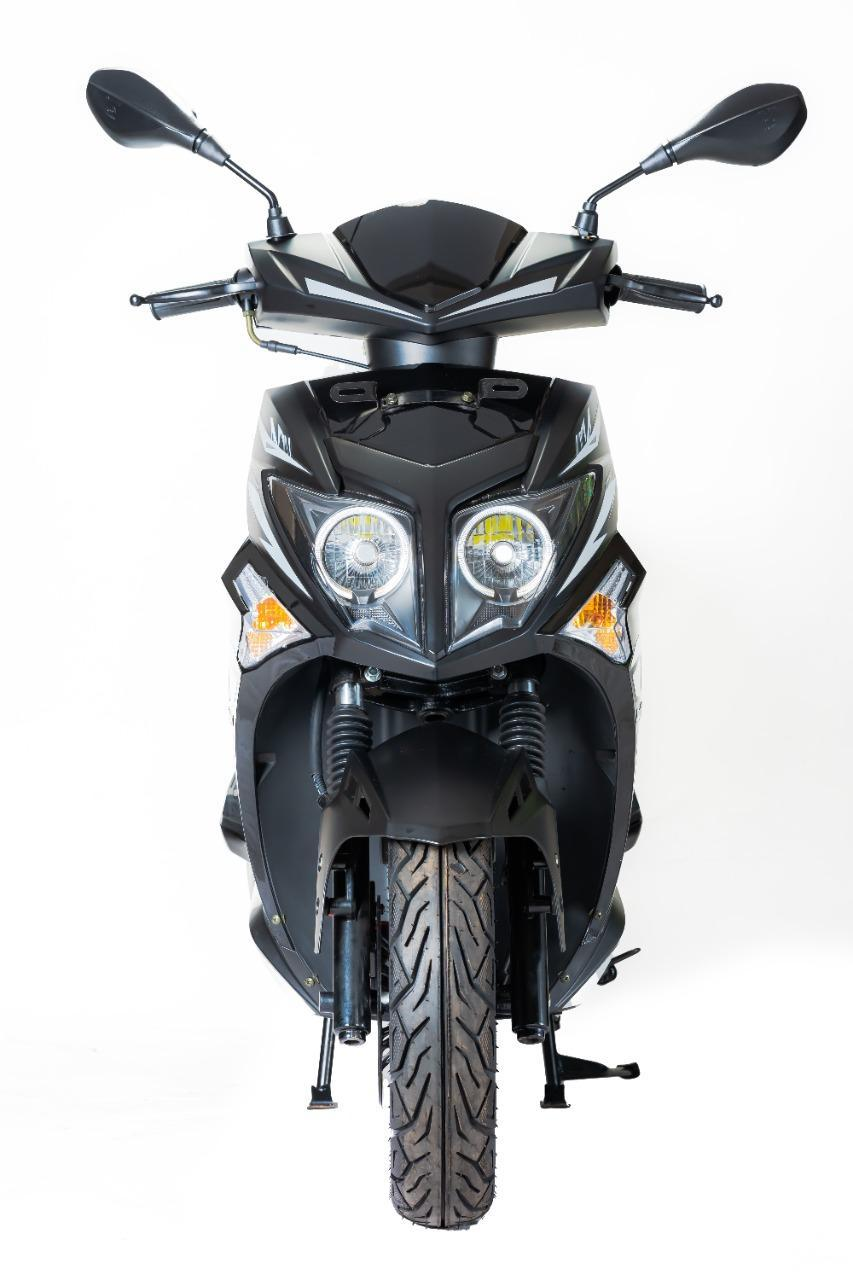motorbike: (86, 70, 808, 1229)
